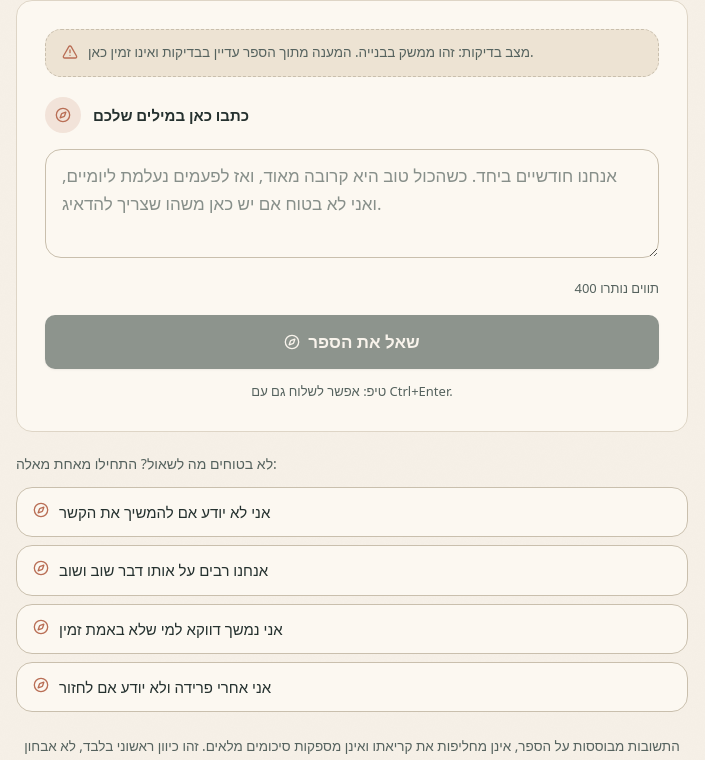
it: CompassConsole, attention line (focus) › does NOT fabricate it in UI-preview (staging) mode
Replace the text in the text box labelled "כתבו כאן במילים שלכם" with "שאלה כלשהי". click: (352, 203)
box: x1=45 y1=149 x2=659 y2=258
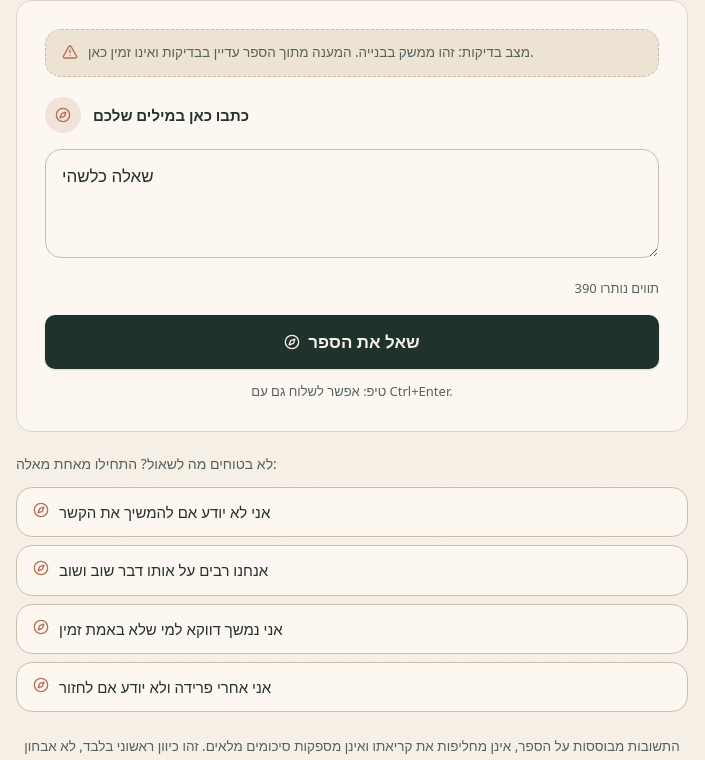
Click the button "שאל את הספר". click: click(352, 342)
box: x1=45 y1=315 x2=659 y2=369
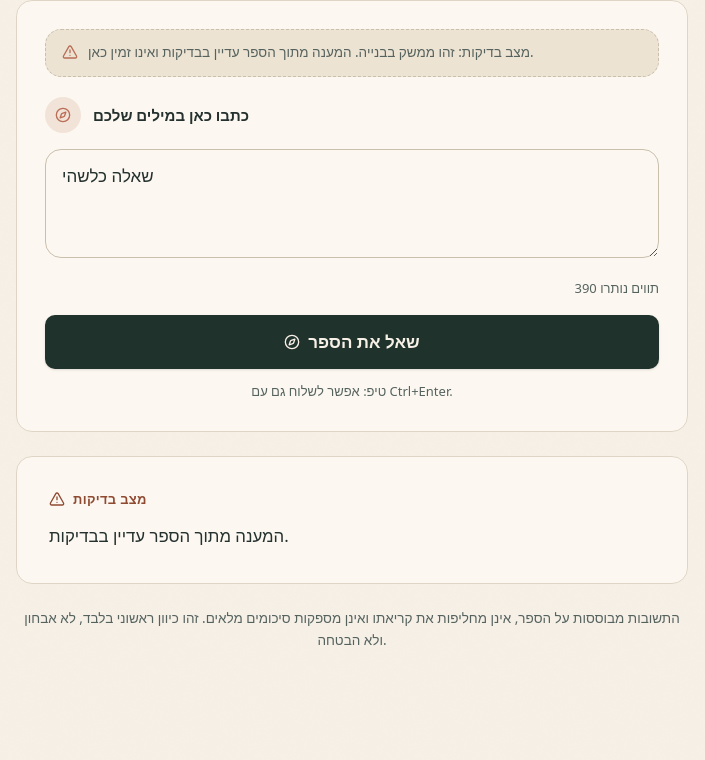
Result: the text "המענה מתוך הספר עדיין בבדיקות." is shown at x1=49 y1=524 x2=289 y2=547
